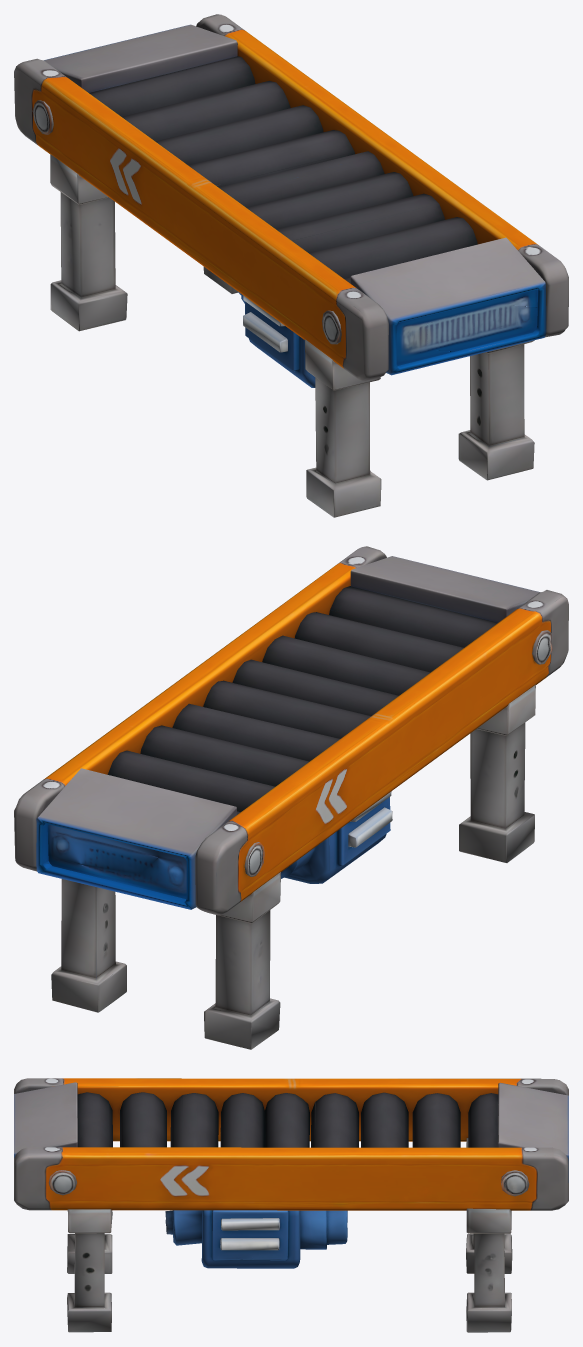
The model's file is straight.glb.
3 renders of one model, top to bottom at view 1: azimuth 30°, elevation 25°; view 2: azimuth 150°, elevation 25°; view 3: azimuth 270°, elevation 25°, orthographic. The views are drawn at different scales.
Visible parts, largest first — view 1: Deck_and_motor, Foot_supports; view 2: Deck_and_motor, Foot_supports; view 3: Deck_and_motor, Foot_supports.
Part boxes in pixels (box(x1,y1,x2,y2)): Deck_and_motor: box(14, 14, 568, 387); Foot_supports: box(50, 154, 534, 517); Deck_and_motor: box(14, 546, 568, 915); Foot_supports: box(51, 684, 535, 1049); Deck_and_motor: box(14, 1078, 568, 1268); Foot_supports: box(67, 1138, 512, 1332).
Size of the model in its own units: 0.4796 by 0.4997 by 1.37.
Materials: 1 (1 with a texture image).
